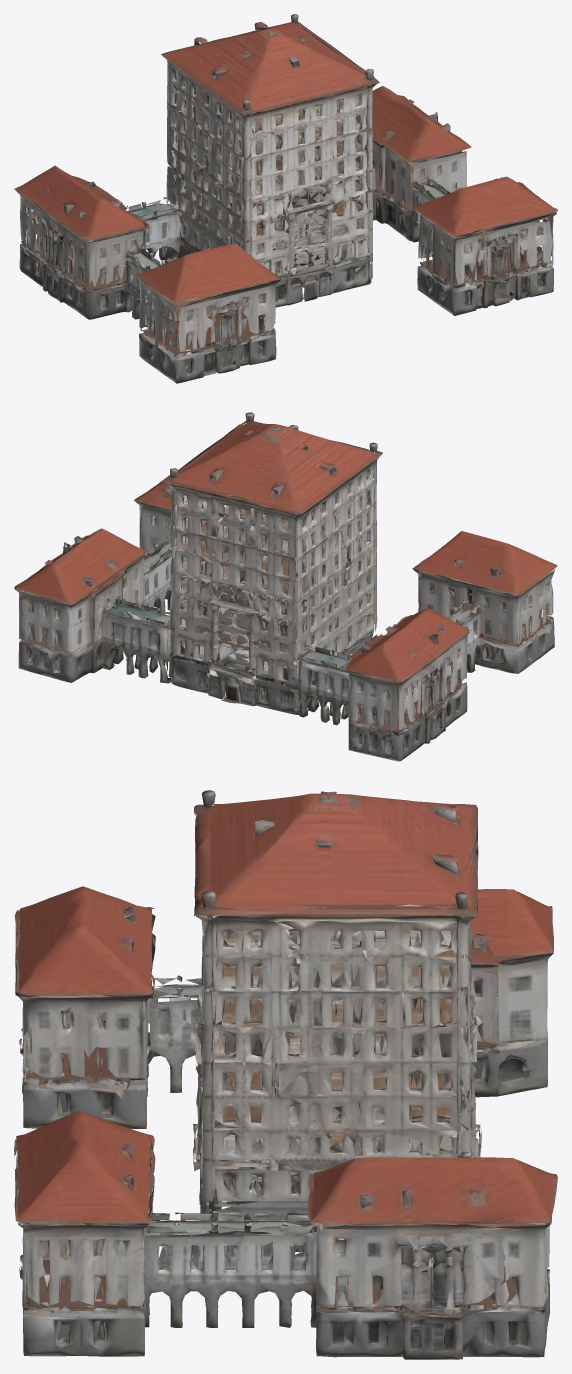
Rendered from schloss.glb.
The picture shows the model from 3 angles, top to bottom: view 1: azimuth 30°, elevation 25°; view 2: azimuth 150°, elevation 25°; view 3: azimuth 270°, elevation 25°; orthographic projection. The views are drawn at different scales.
Parts seen in each view (by area): view 1: geometry_0; view 2: geometry_0; view 3: geometry_0.
Boxes of the visible parts, x1,y1,x2,y2 form: geometry_0: (14,14,557,383); geometry_0: (14,412,557,761); geometry_0: (14,790,557,1359).
Bounding box in the file's own units: 1 × 0.5889 × 0.7188.
1 material, 1 textured.
